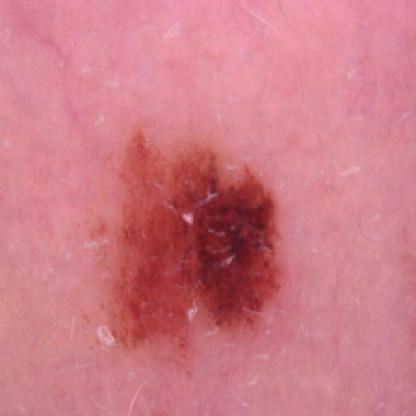benign: (117, 128, 284, 338)
